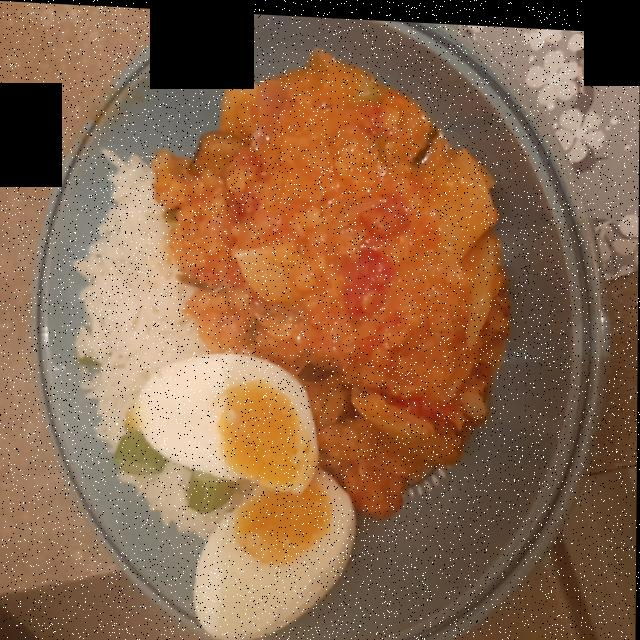egg: (145, 355, 365, 630)
rice: (87, 160, 244, 530)
soup-of-lentils-dahl-dhal: (171, 65, 491, 470)
